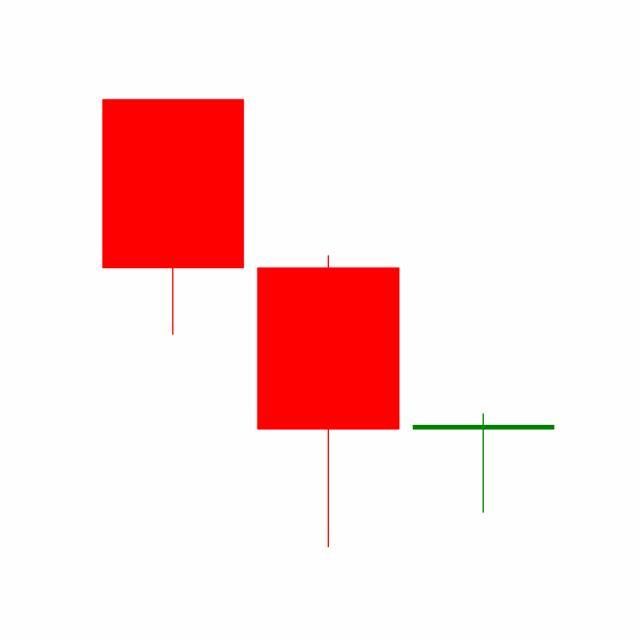Dragonfly Doji: (406, 413, 562, 516)
